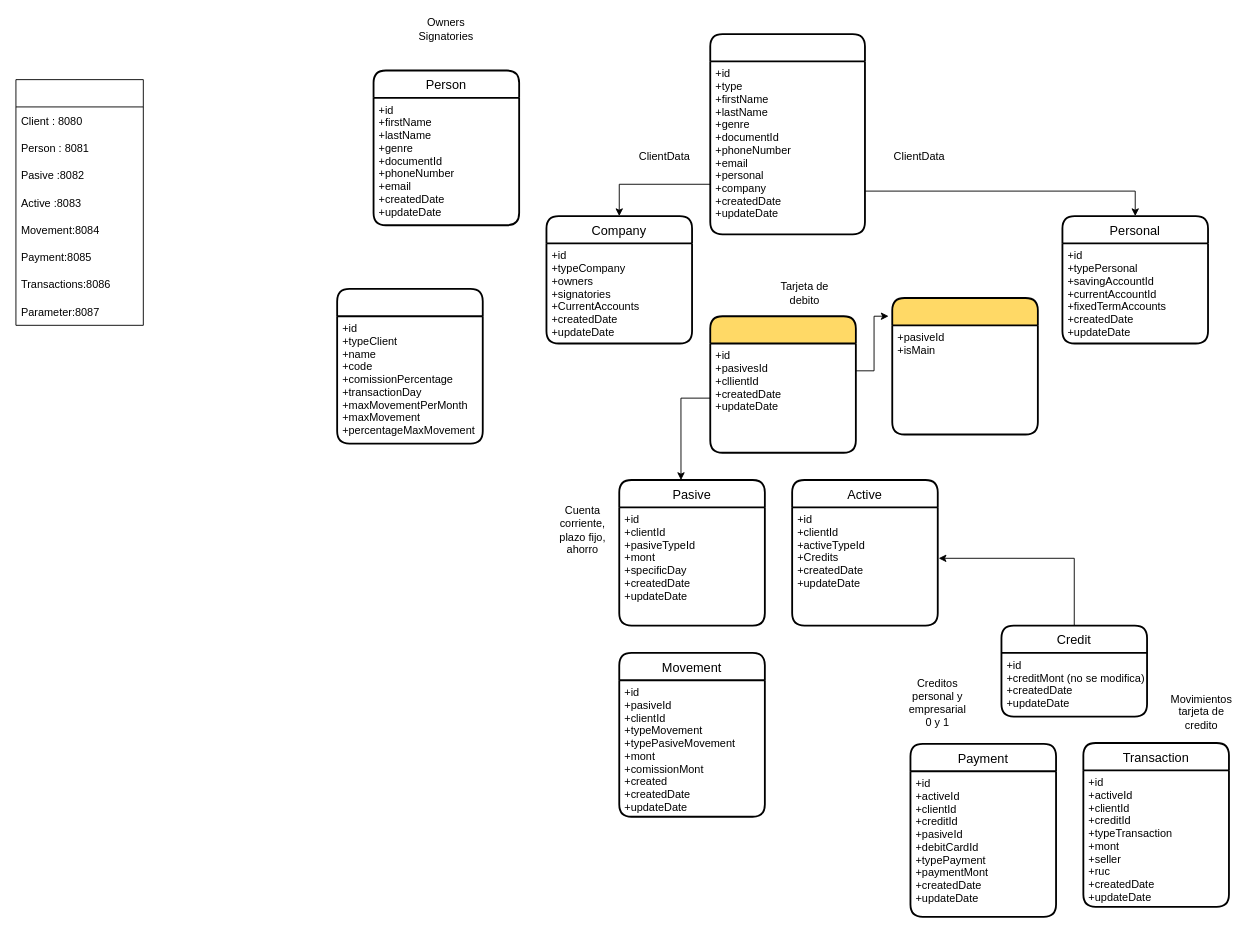
Image size: 1248x933. Some labels were removed from this diagram. The box of each missing label's shape, as (x1, y1, x2, y2) in pixels:
Client: (709, 33, 865, 235)
DebitCard: (709, 315, 856, 453)
Listado Puertos: (15, 79, 143, 325)
Parameter: (336, 288, 483, 444)
PasiveAccount: (891, 297, 1038, 435)
